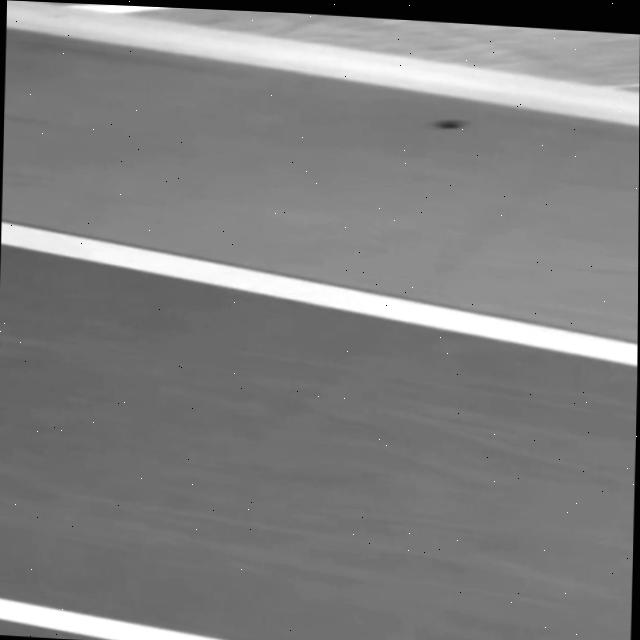center: (0, 598, 224, 640)
right: (0, 223, 638, 366)
